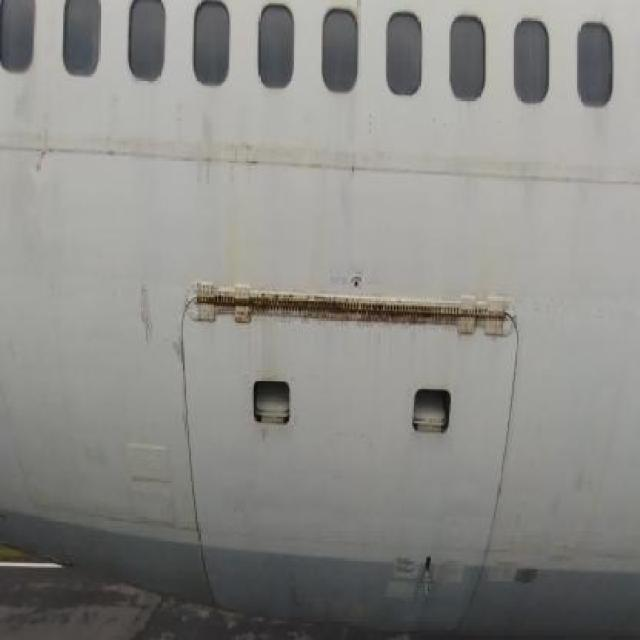Rust: (180, 276, 514, 342), (214, 179, 248, 273), (135, 279, 157, 364)
Scartch: (168, 336, 189, 436)
